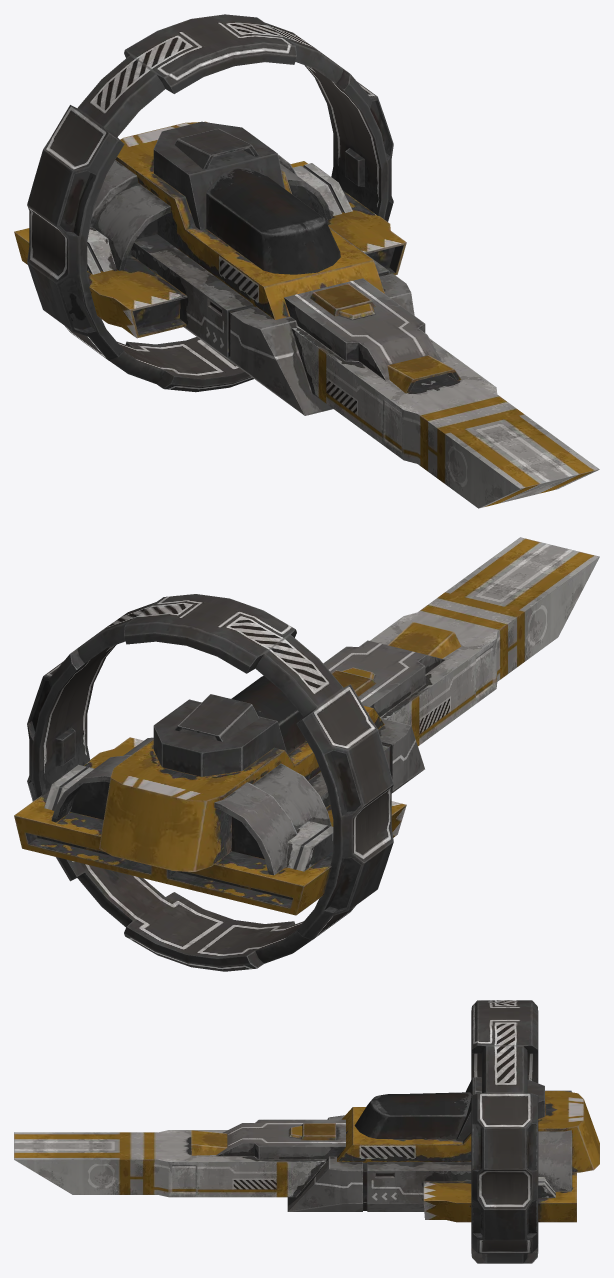
File: Zenith.glb
3 renders of one model, top to bottom at view 1: azimuth 30°, elevation 25°; view 2: azimuth 150°, elevation 25°; view 3: azimuth 270°, elevation 25°, orthographic. The views are drawn at different scales.
Visible parts, largest first — view 1: Zenith; view 2: Zenith; view 3: Zenith.
Boxes of the visible parts, box(x1,y1,x2,y2) form: Zenith: box(14, 14, 599, 508); Zenith: box(14, 537, 599, 971); Zenith: box(14, 1000, 599, 1263).
Size of the model in its own units: 5.63 by 5.43 by 12.07.
1 material, 1 textured.
